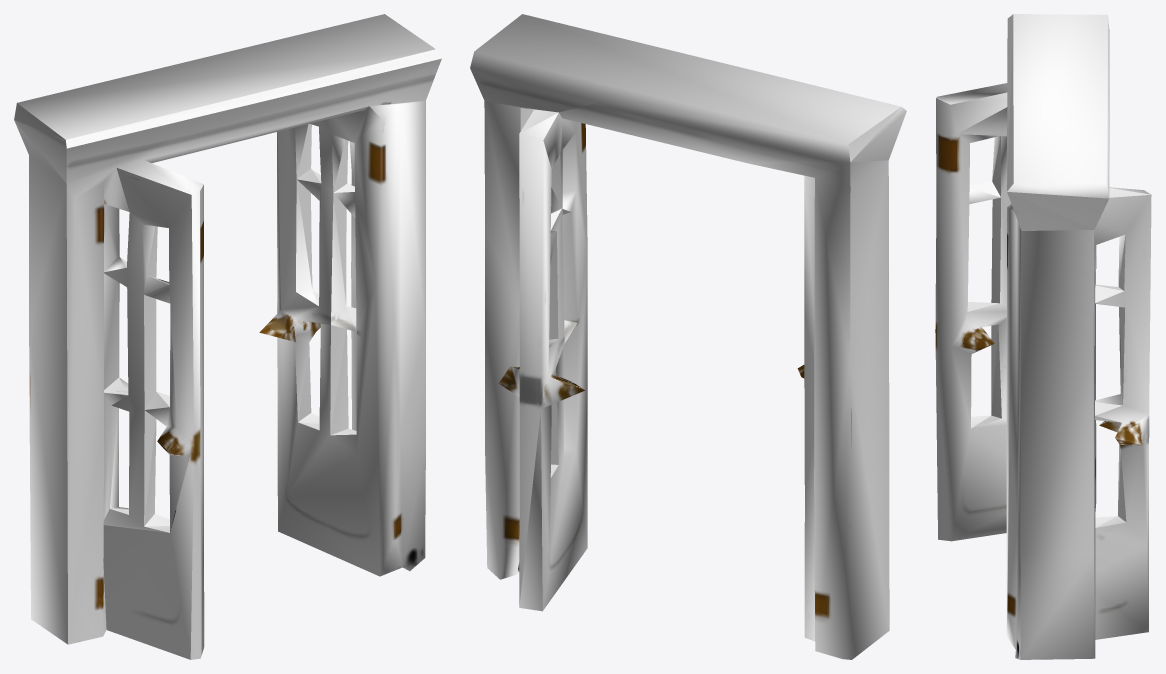
File: open-french-doorway.glb
3 views of the same model, side by side, from view 1: azimuth 30°, elevation 25°; view 2: azimuth 150°, elevation 25°; view 3: azimuth 270°, elevation 25° (orthographic). The views are drawn at different scales.
Parts seen in each view (by area): view 1: geometry_0.001; view 2: geometry_0.001; view 3: geometry_0.001.
Part boxes in pixels (x1,y1,x2,y2): geometry_0.001: (14, 14, 441, 659); geometry_0.001: (470, 14, 906, 659); geometry_0.001: (935, 14, 1151, 659).
Size of the model in its own units: 0.7582 by 0.9987 by 0.4024.
Materials: 1 (1 with a texture image).
